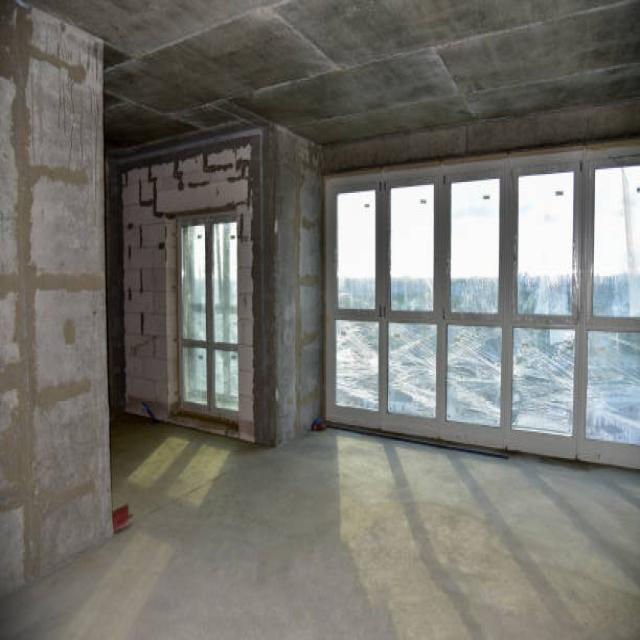floor: (0, 411, 640, 640)
wall: (120, 121, 275, 447), (320, 97, 640, 175), (269, 121, 325, 447), (166, 213, 180, 422)
